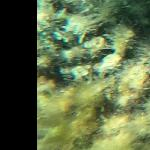dead: (30, 1, 148, 148)
